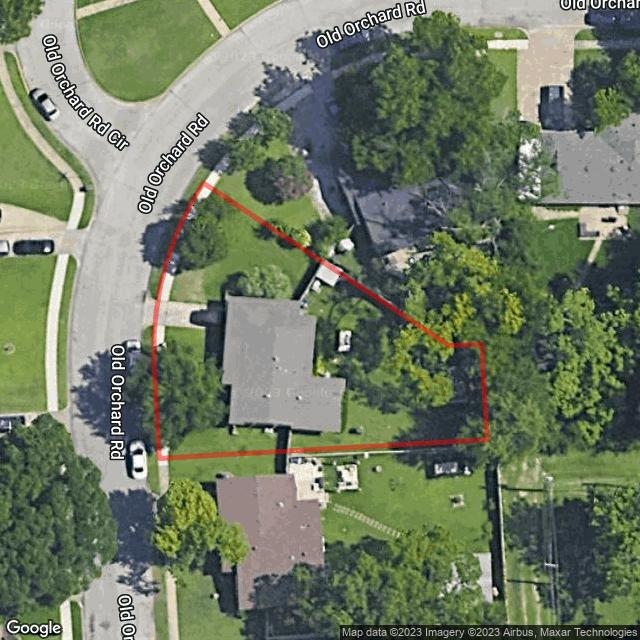Driveway: (157, 300, 225, 331)
Extra Driveway: (142, 288, 156, 331)
Extra Lawn: (148, 175, 203, 300)
House: (222, 296, 345, 431)
Other: (140, 324, 157, 462), (298, 265, 339, 307), (338, 330, 351, 352)
Sidewalk: (161, 186, 211, 302), (157, 325, 165, 347), (161, 446, 169, 456)
